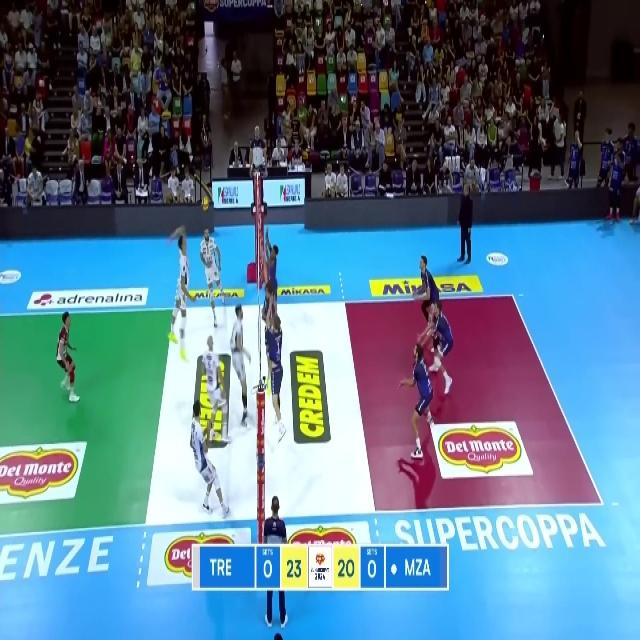volleyball court: (0, 293, 602, 540)
